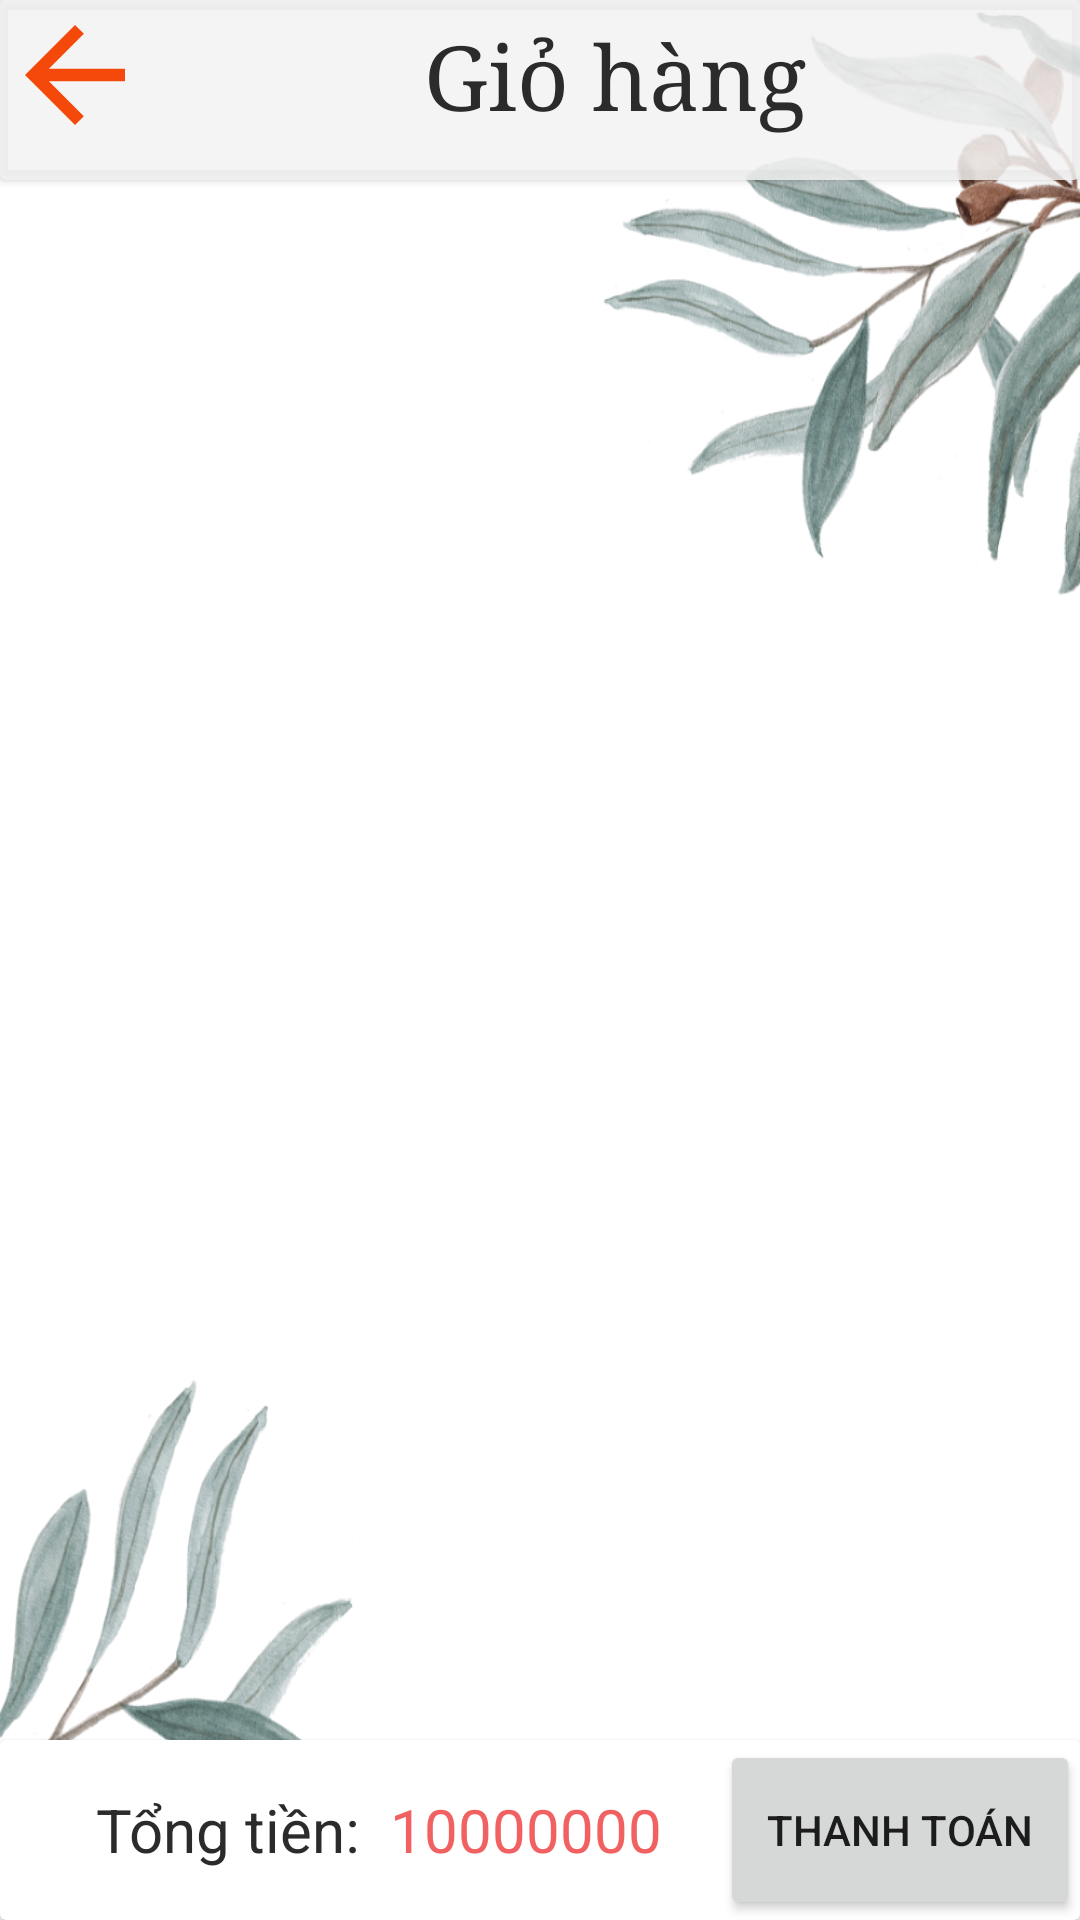

Screen size 1080 × 1920. Icon name, then its box in pixels as Rect(x1, y1, x2, y2):
back: Rect(25, 25, 125, 125)
